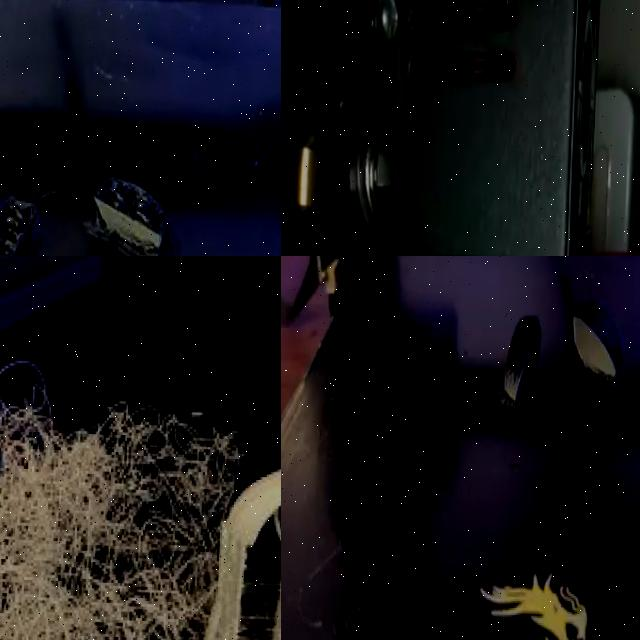spaghetti: (0, 333, 201, 640), (192, 343, 281, 640)
